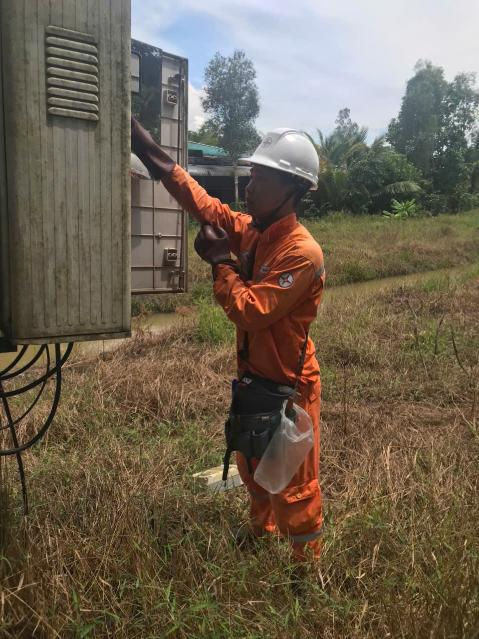gloves: (110, 94, 173, 187), (189, 217, 247, 283)
helmet: (224, 119, 334, 194)
